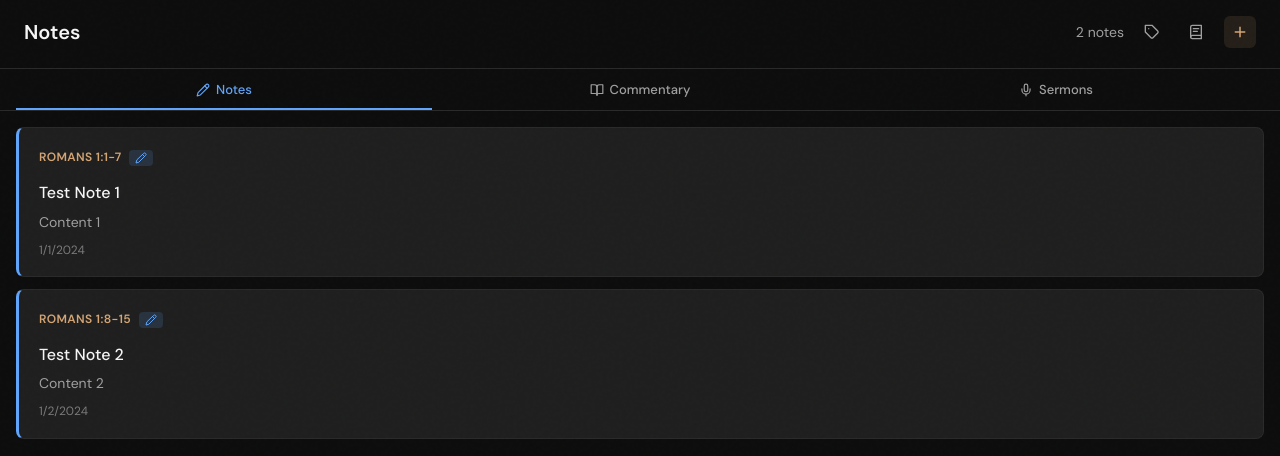
NotesPanel › tab switching › switches to sermons tab
Step 1. Click the button "Sermons" → coordinates (1056, 90), box [848,69,1264,110]
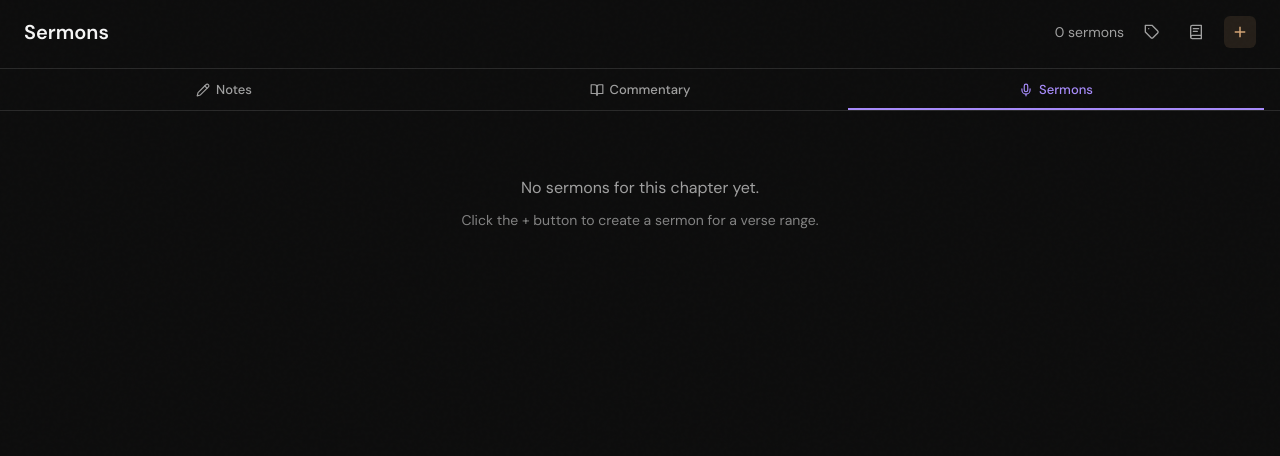
expect the heading "Sermons" is shown: met, box [24,16,109,48]
